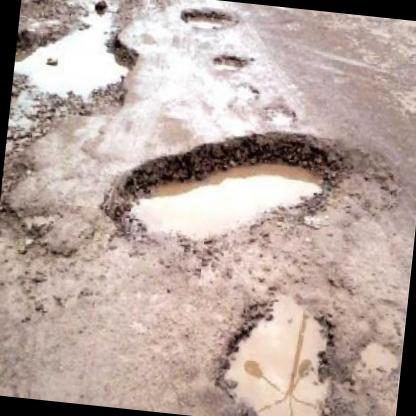pothole: (102, 110, 404, 282), (0, 0, 149, 213), (209, 279, 345, 416), (0, 203, 63, 251), (179, 2, 241, 36), (355, 335, 402, 373), (260, 101, 300, 128), (229, 80, 261, 109), (212, 51, 250, 74)
